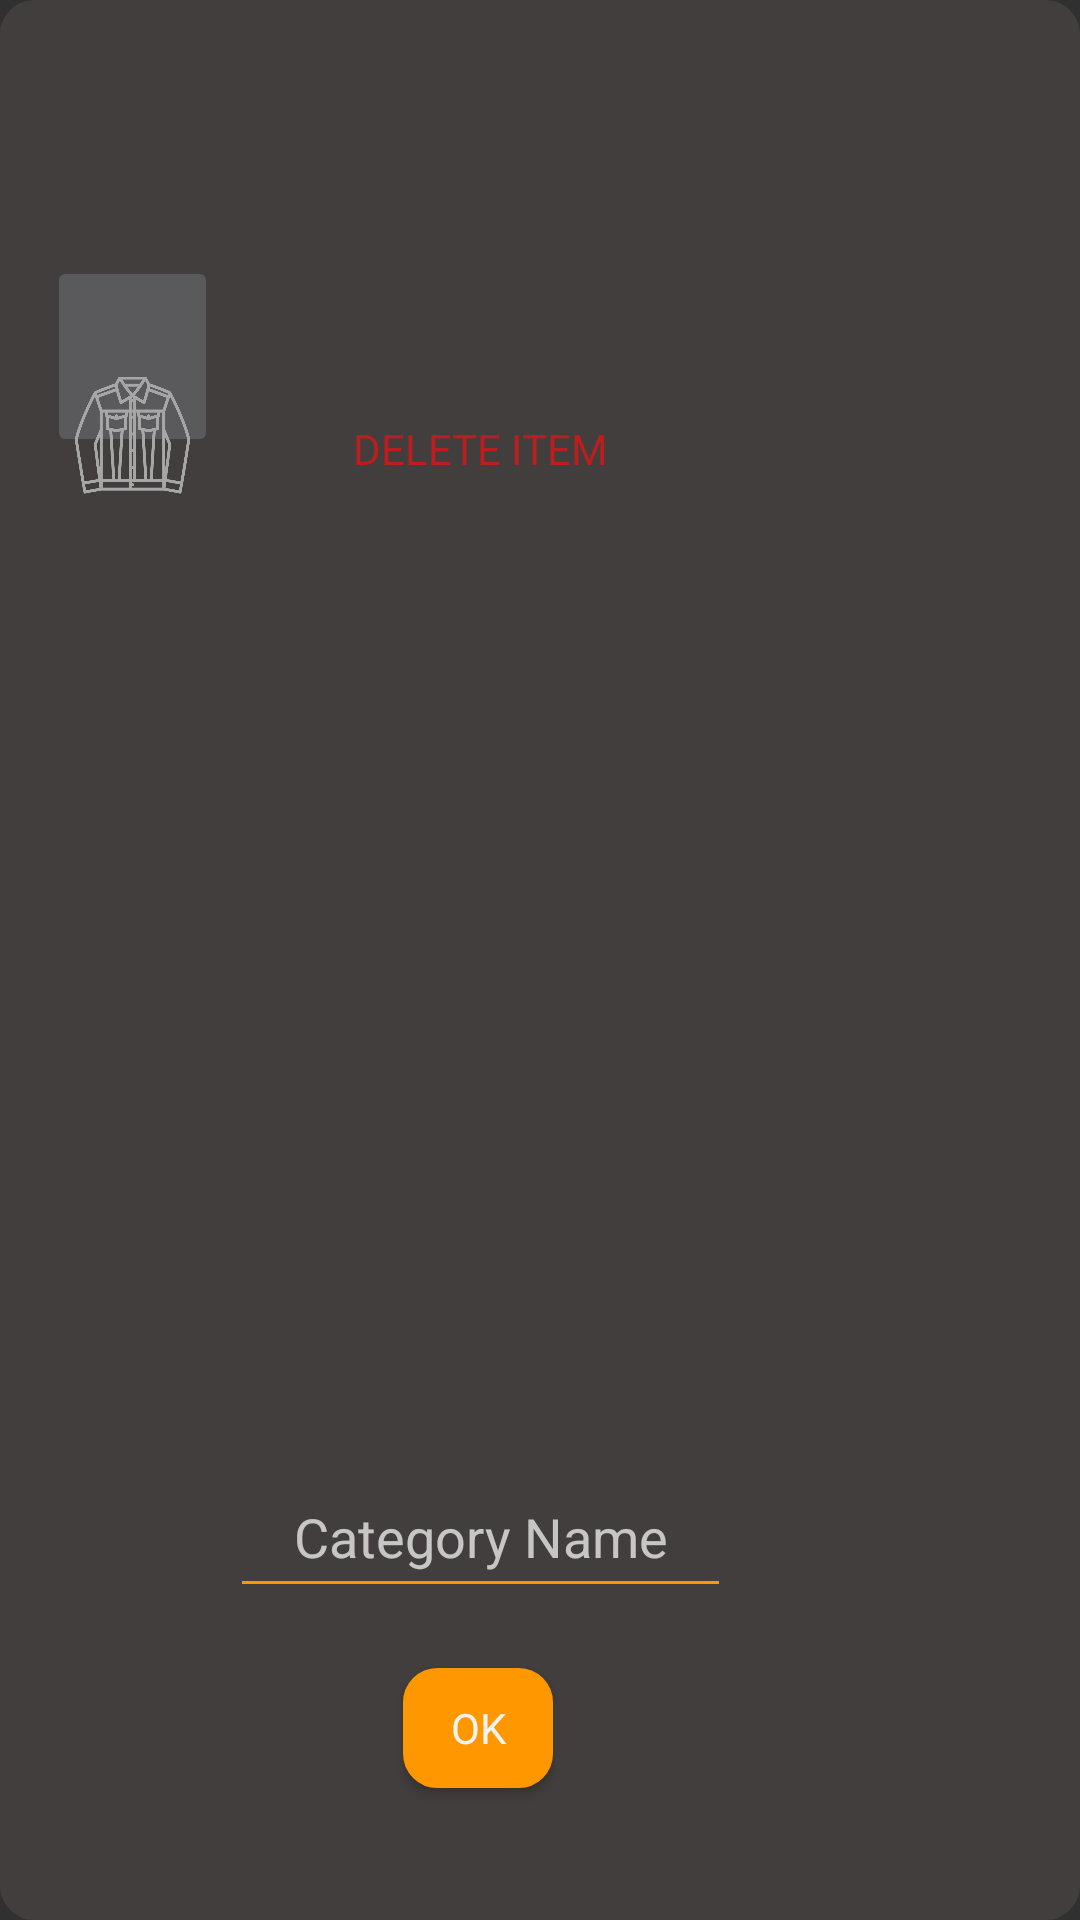

Named icons in this screenshot (1080 x 1920) and their centers, (x=x, y=y):
denim: (x=132, y=435)
